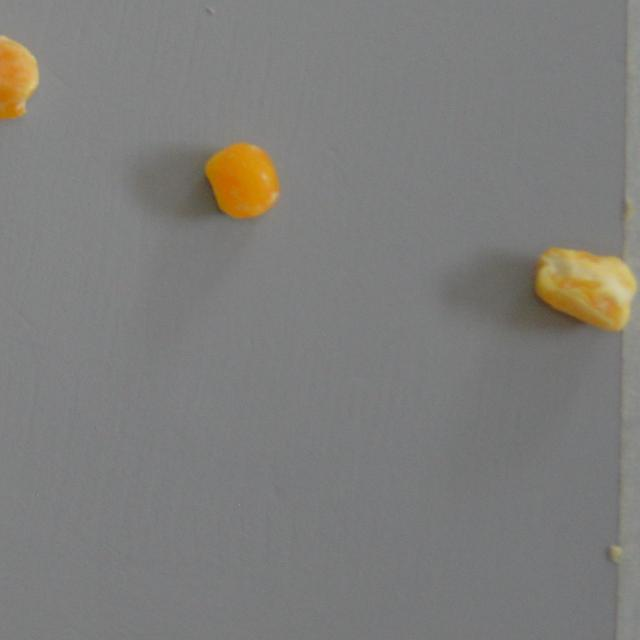dañado: (198, 136, 285, 222)
pelicula: (533, 240, 638, 334), (0, 27, 44, 121)
